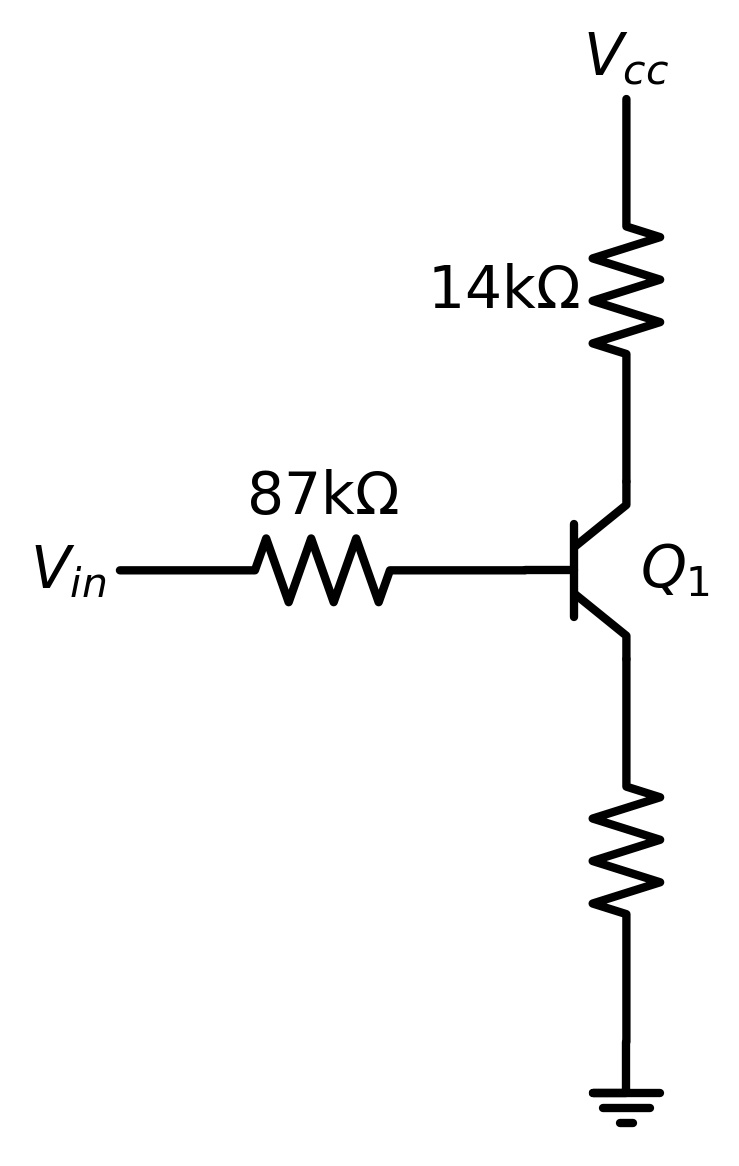bjt: (542, 483, 640, 640)
ground: (578, 1072, 669, 1140)
resistor: (574, 762, 678, 932), (247, 523, 404, 627), (583, 202, 670, 376)
